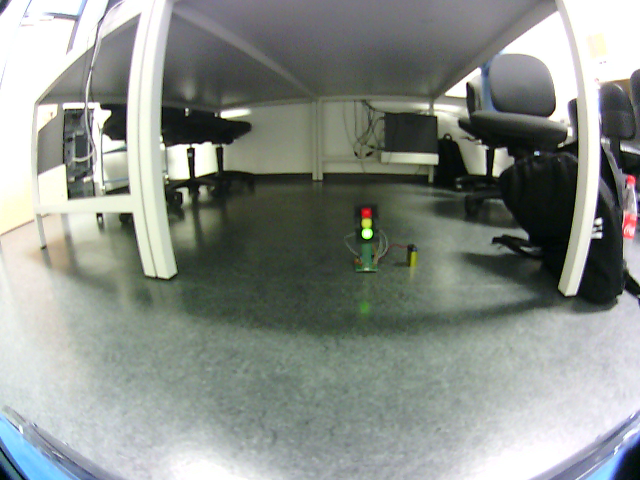green trafficlight: (355, 207, 377, 243)
